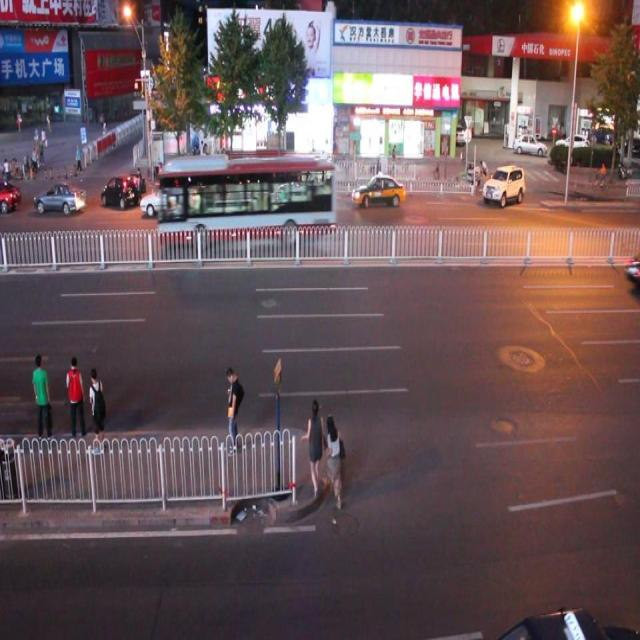car: (140, 181, 195, 216), (34, 181, 85, 216), (350, 175, 404, 208), (284, 171, 330, 205), (482, 166, 523, 203), (188, 170, 230, 206), (101, 174, 137, 209), (1, 177, 20, 213)
van: (157, 153, 338, 243)
